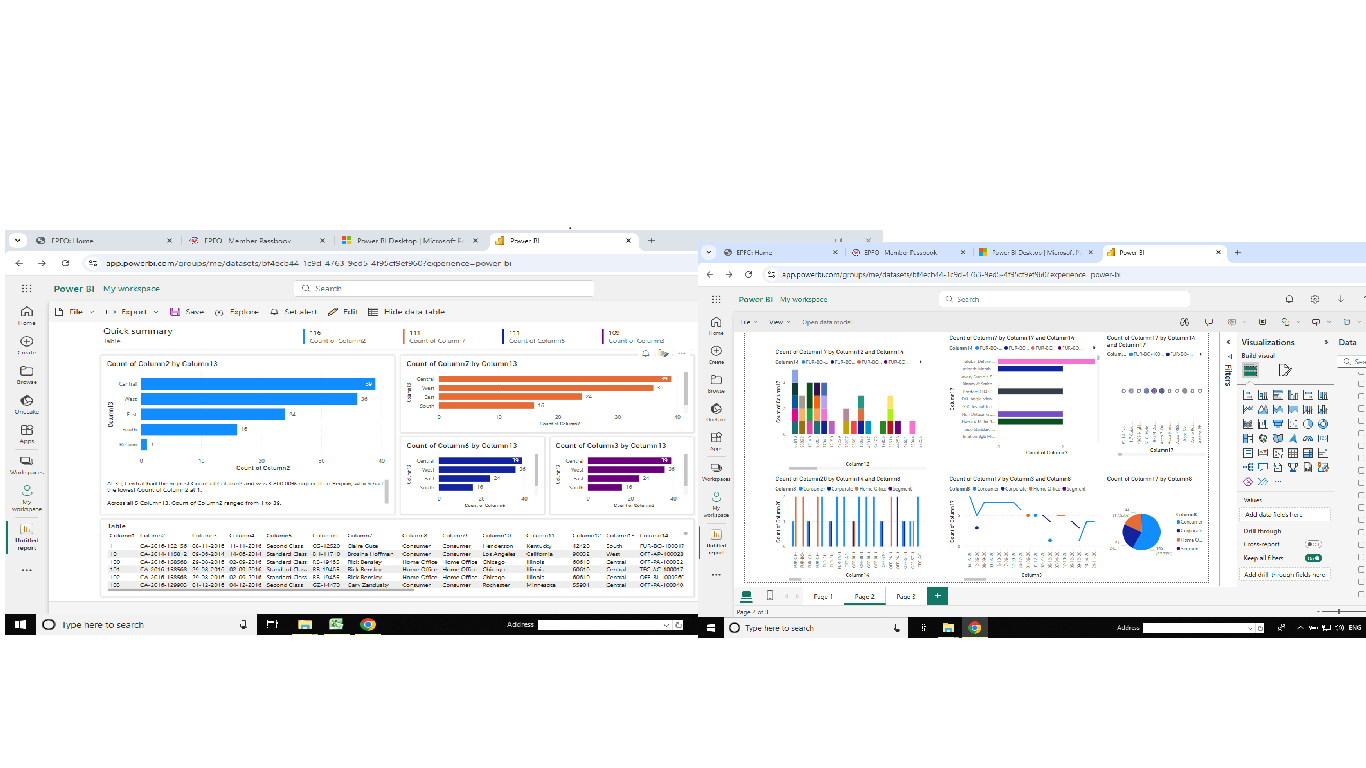

The dashboard page shown, as its layout file describes it:
{"tool":"powerbi","page":{"name":"Page 1","canvas":[1280,720],"ordinal":0},"visuals":[{"type":"shape","box":[12,58,1256,26],"z":0},{"type":"shape","box":[12,84,622,624],"z":1000},{"type":"shape","box":[646,84,622,306],"z":2000},{"type":"shape","box":[646,402,305,306],"z":3000},{"type":"shape","box":[963,402,305,306],"z":4000},{"type":"clusteredBarChart","fields":{"Category":["Table.Column13"],"Y":["Table.Column3"]},"box":[971,414,289,282],"z":5000},{"type":"clusteredBarChart","fields":{"Category":["Table.Column13"],"Y":["Table.Column7"]},"box":[654,414,289,282],"z":6000},{"type":"clusteredBarChart","fields":{"Category":["Table.Column13"],"Y":["Table.Column6"]},"box":[654,96,606,282],"z":7000},{"type":"textbox","box":[20,566,606,129],"z":8000},{"type":"clusteredBarChart","fields":{"Category":["Table.Column13"],"Y":["Table.Column2"]},"box":[20,96,606,458],"z":9000},{"type":"multiRowCard","fields":{"Values":["Table.Column3"]},"box":[1069,12,199,50],"z":10000},{"type":"multiRowCard","fields":{"Values":["Table.Column7"]},"box":[858,12,199,50],"z":11000},{"type":"multiRowCard","fields":{"Values":["Table.Column6"]},"box":[647,12,199,50],"z":12000},{"type":"multiRowCard","fields":{"Values":["Table.Column2"]},"box":[436,12,199,50],"z":13000},{"type":"textbox","box":[12,33,306,32],"z":14000},{"type":"textbox","box":[12,2,306,39],"z":15000}]}

Visuals, with their boxes on the page's 1280x720 design canvas (x1, y1, x2, y2). These are canvas units, not pixel positions in the 1366x768 screenshot, which may show the page scaled, cropped or inside an application window:
shape: locate(12, 58, 1268, 84)
shape: locate(12, 84, 634, 708)
shape: locate(646, 84, 1268, 390)
shape: locate(646, 402, 951, 708)
shape: locate(963, 402, 1268, 708)
clusteredBarChart - Table.Column13 x Table.Column3: locate(971, 414, 1260, 696)
clusteredBarChart - Table.Column13 x Table.Column7: locate(654, 414, 943, 696)
clusteredBarChart - Table.Column13 x Table.Column6: locate(654, 96, 1260, 378)
textbox: locate(20, 566, 626, 695)
clusteredBarChart - Table.Column13 x Table.Column2: locate(20, 96, 626, 554)
multiRowCard - Table.Column3: locate(1069, 12, 1268, 62)
multiRowCard - Table.Column7: locate(858, 12, 1057, 62)
multiRowCard - Table.Column6: locate(647, 12, 846, 62)
multiRowCard - Table.Column2: locate(436, 12, 635, 62)
textbox: locate(12, 33, 318, 65)
textbox: locate(12, 2, 318, 41)
